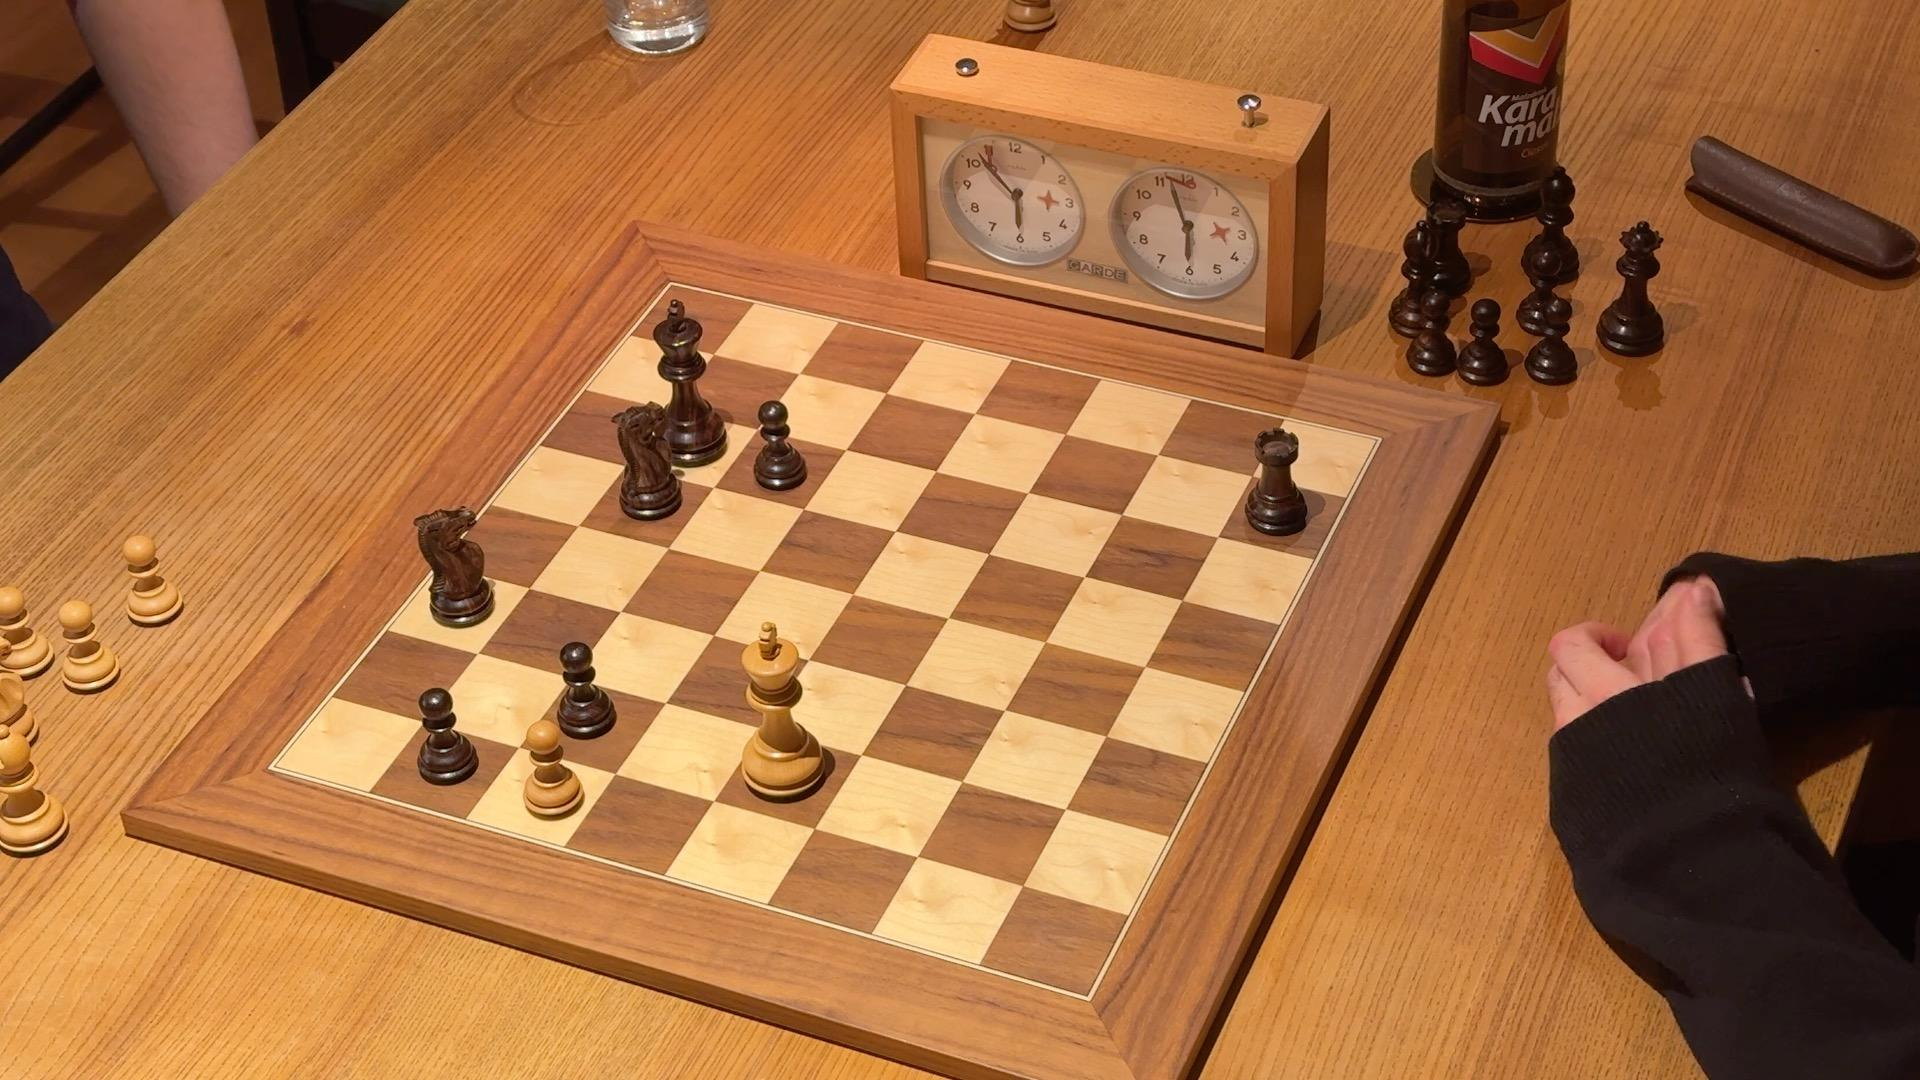Black King: (647, 298, 740, 477)
Black Knight: (411, 498, 498, 632), (608, 405, 688, 526)
Black Pawn: (414, 683, 484, 793), (551, 638, 620, 742), (749, 397, 807, 492)
Black Rook: (1238, 430, 1315, 539)
White King: (737, 621, 824, 804)
White Pawn: (514, 713, 589, 829)
